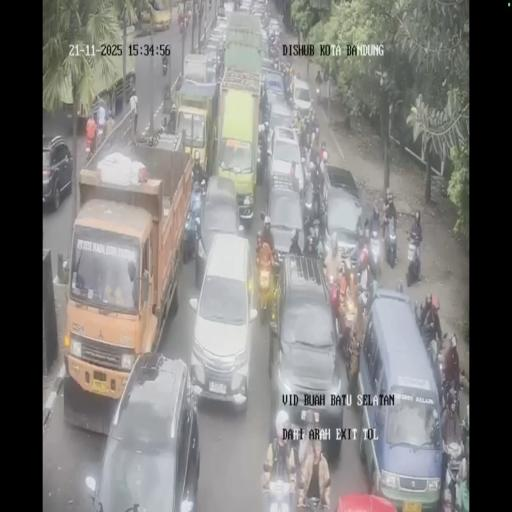car: (88, 352, 200, 508), (270, 257, 344, 453), (196, 171, 241, 283), (322, 172, 365, 262), (264, 185, 306, 267), (42, 134, 73, 211), (266, 100, 296, 144), (291, 77, 313, 120), (262, 69, 286, 107), (204, 51, 220, 83), (213, 16, 229, 46), (267, 18, 281, 49), (259, 27, 269, 60), (260, 56, 276, 74), (252, 0, 266, 17), (239, 0, 252, 14), (140, 6, 150, 24), (217, 3, 227, 18)
motorcycle: (415, 304, 442, 374), (366, 224, 384, 277), (406, 235, 422, 286), (356, 279, 373, 323), (384, 214, 398, 267), (302, 178, 316, 226), (306, 128, 318, 154), (284, 76, 294, 106), (178, 14, 186, 35), (162, 56, 168, 76)
truck: (57, 16, 136, 126), (173, 71, 218, 179), (222, 8, 264, 79), (146, 0, 171, 32)
